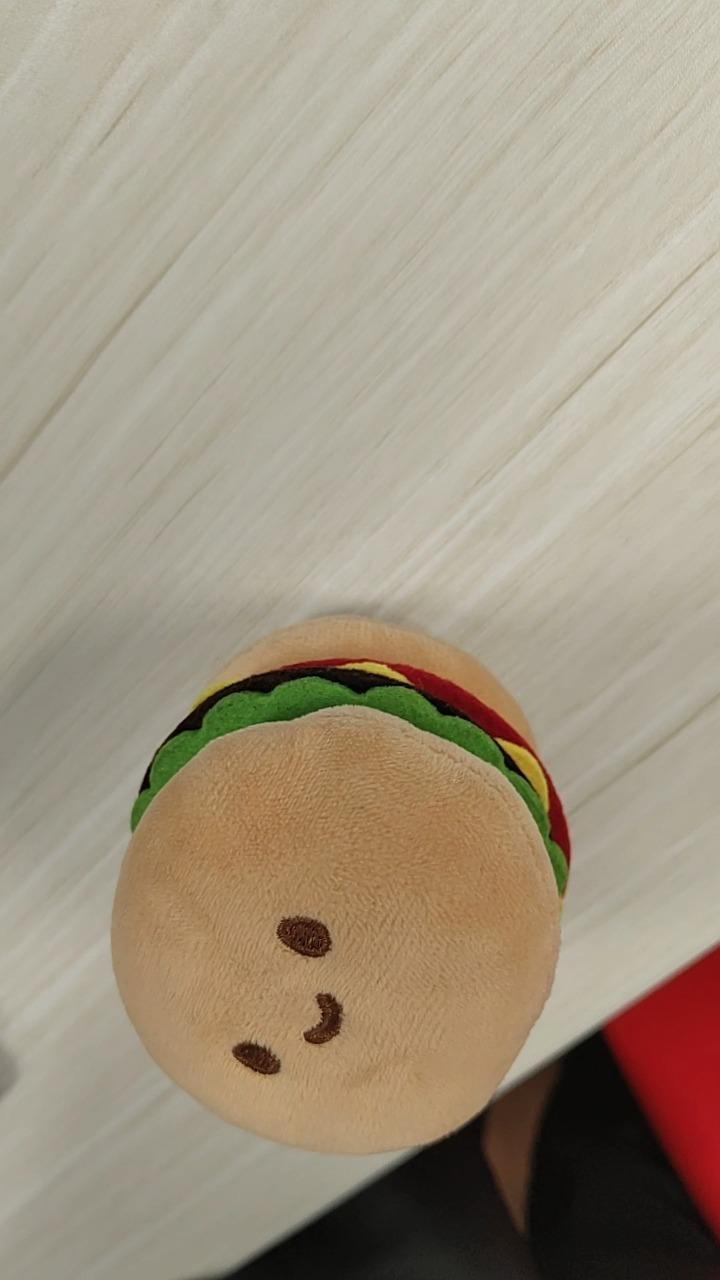hamburger: (108, 611, 573, 1157)
